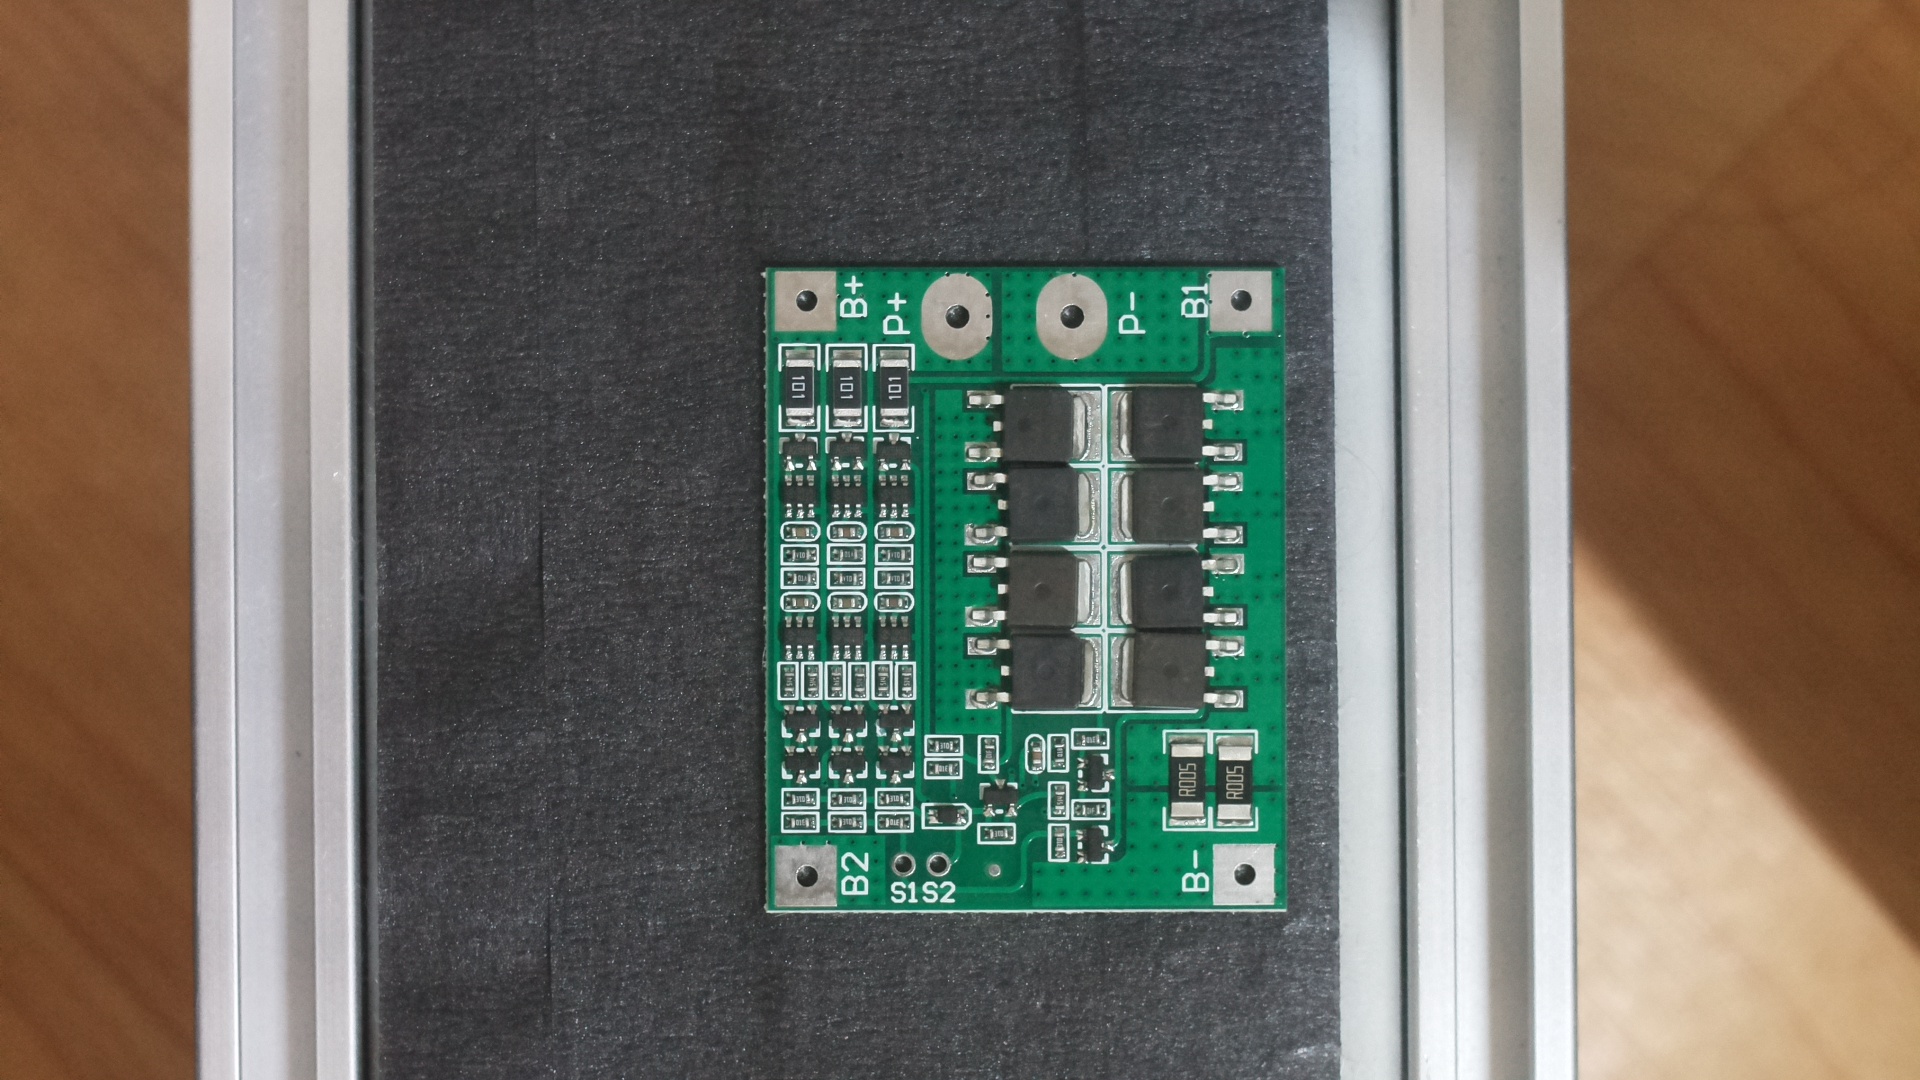C_Normal: (746, 240, 1300, 926)
